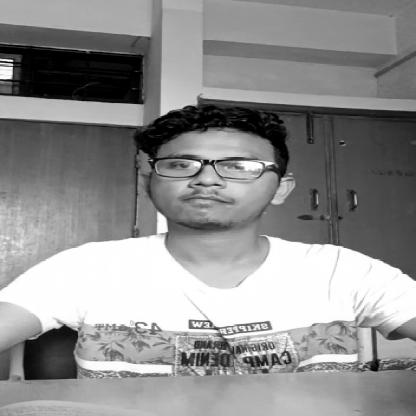Normal: (119, 105, 290, 236)
